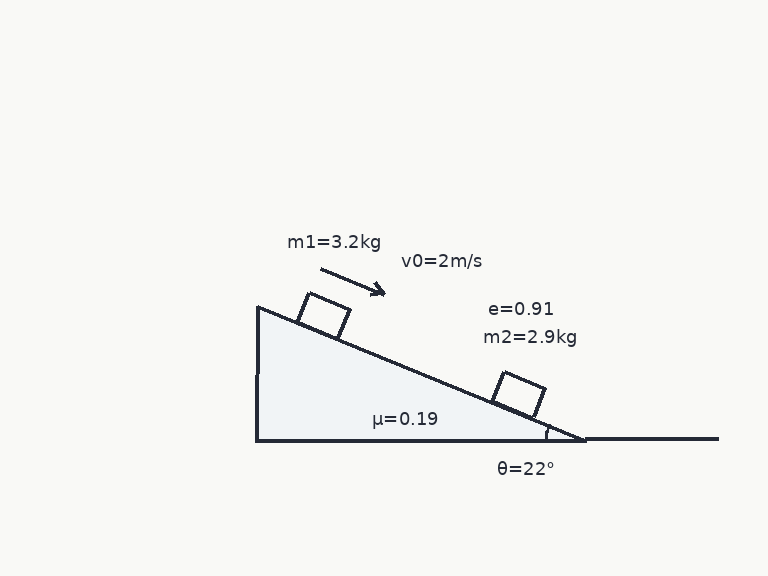block: (295, 290, 352, 341), (490, 369, 547, 419)
ramp: (255, 304, 588, 441)
